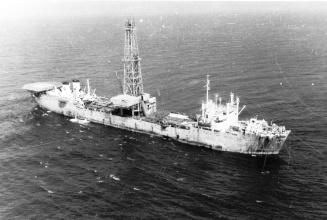otherboat: (26, 72, 304, 156)
